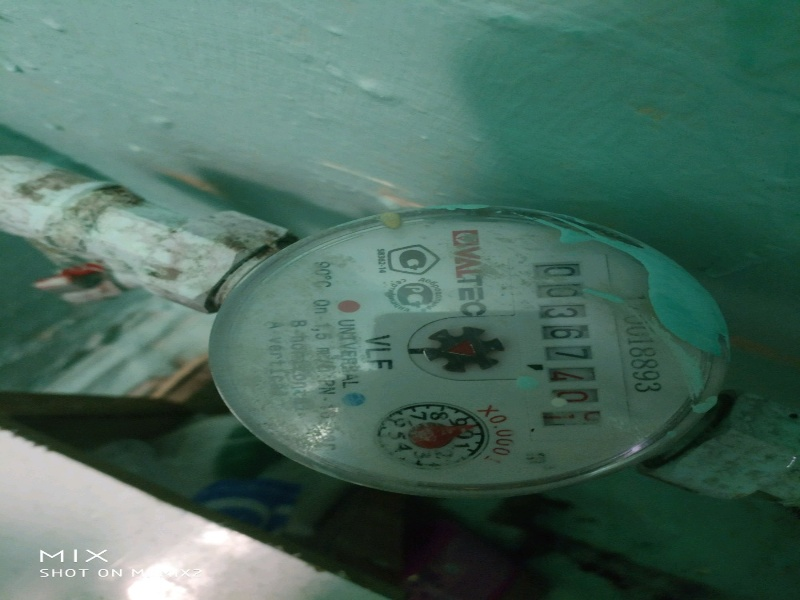meter: (528, 249, 601, 427)
